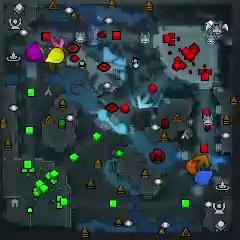p1: (195, 170, 213, 185)
p3: (25, 41, 44, 63)
p4: (45, 47, 65, 64)
p5: (186, 157, 199, 174)
x1: (48, 37, 65, 52)
x3: (136, 93, 153, 108)
x5: (193, 154, 209, 171)
